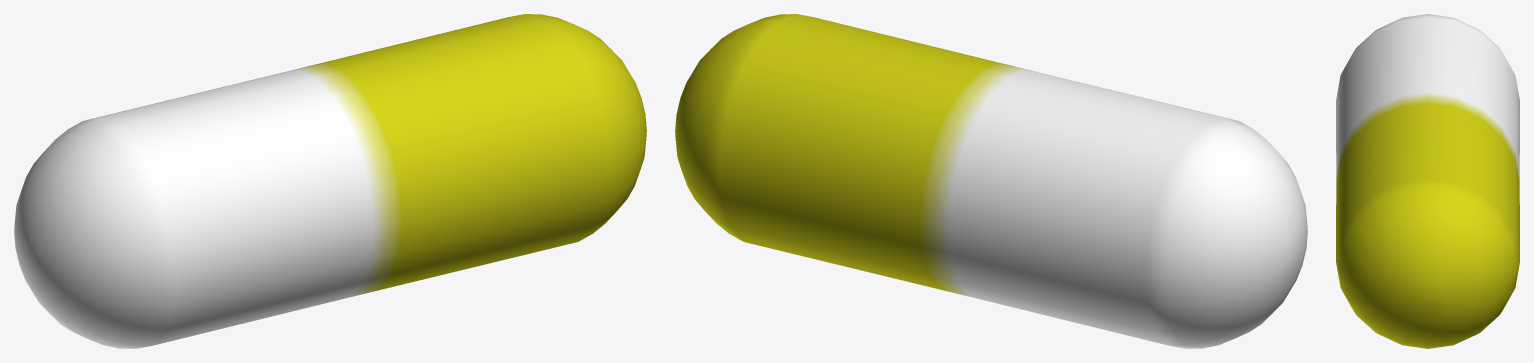
Rendered from dexidrina.fbx.
3 renders of one model, left to right at view 1: azimuth 30°, elevation 25°; view 2: azimuth 150°, elevation 25°; view 3: azimuth 270°, elevation 25°, orthographic. The views are drawn at different scales.
Parts seen in each view (by area): view 1: dexi; view 2: dexi; view 3: dexi.
Part boxes in pixels (x1,y1,x2,y2): dexi: [14, 14, 646, 348]; dexi: [675, 14, 1307, 348]; dexi: [1336, 14, 1519, 348].
Size of the model in its own units: 5.78 by 1.98 by 1.98.
